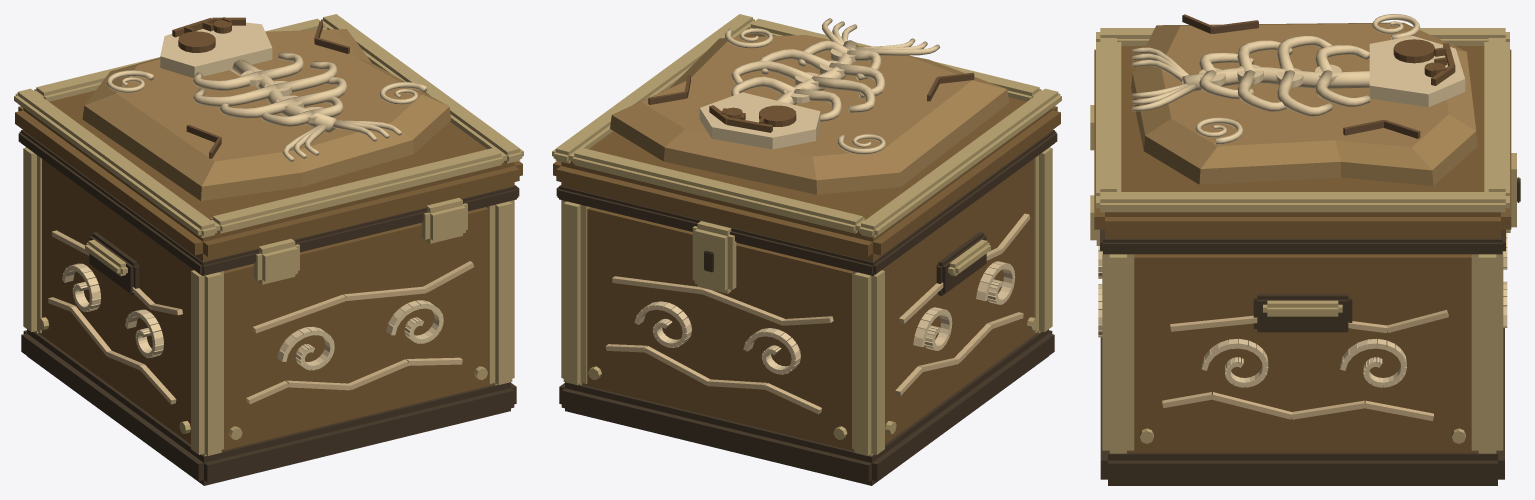
The model's file is crate_fossil.fbx.
The picture shows the model from 3 angles, left to right: view 1: azimuth 30°, elevation 25°; view 2: azimuth 150°, elevation 25°; view 3: azimuth 270°, elevation 25°; orthographic projection. The views are drawn at different scales.
Visible parts, largest first — view 1: crate_fossil_caixa; view 2: crate_fossil_caixa; view 3: crate_fossil_caixa.
Part boxes in pixels (<box>): crate_fossil_caixa: <box>14,14,523,485</box>; crate_fossil_caixa: <box>552,14,1061,485</box>; crate_fossil_caixa: <box>1090,14,1520,485</box>.
Bounding box in the file's own units: 2.68 × 2.4 × 2.7.
1 material, 1 textured.
